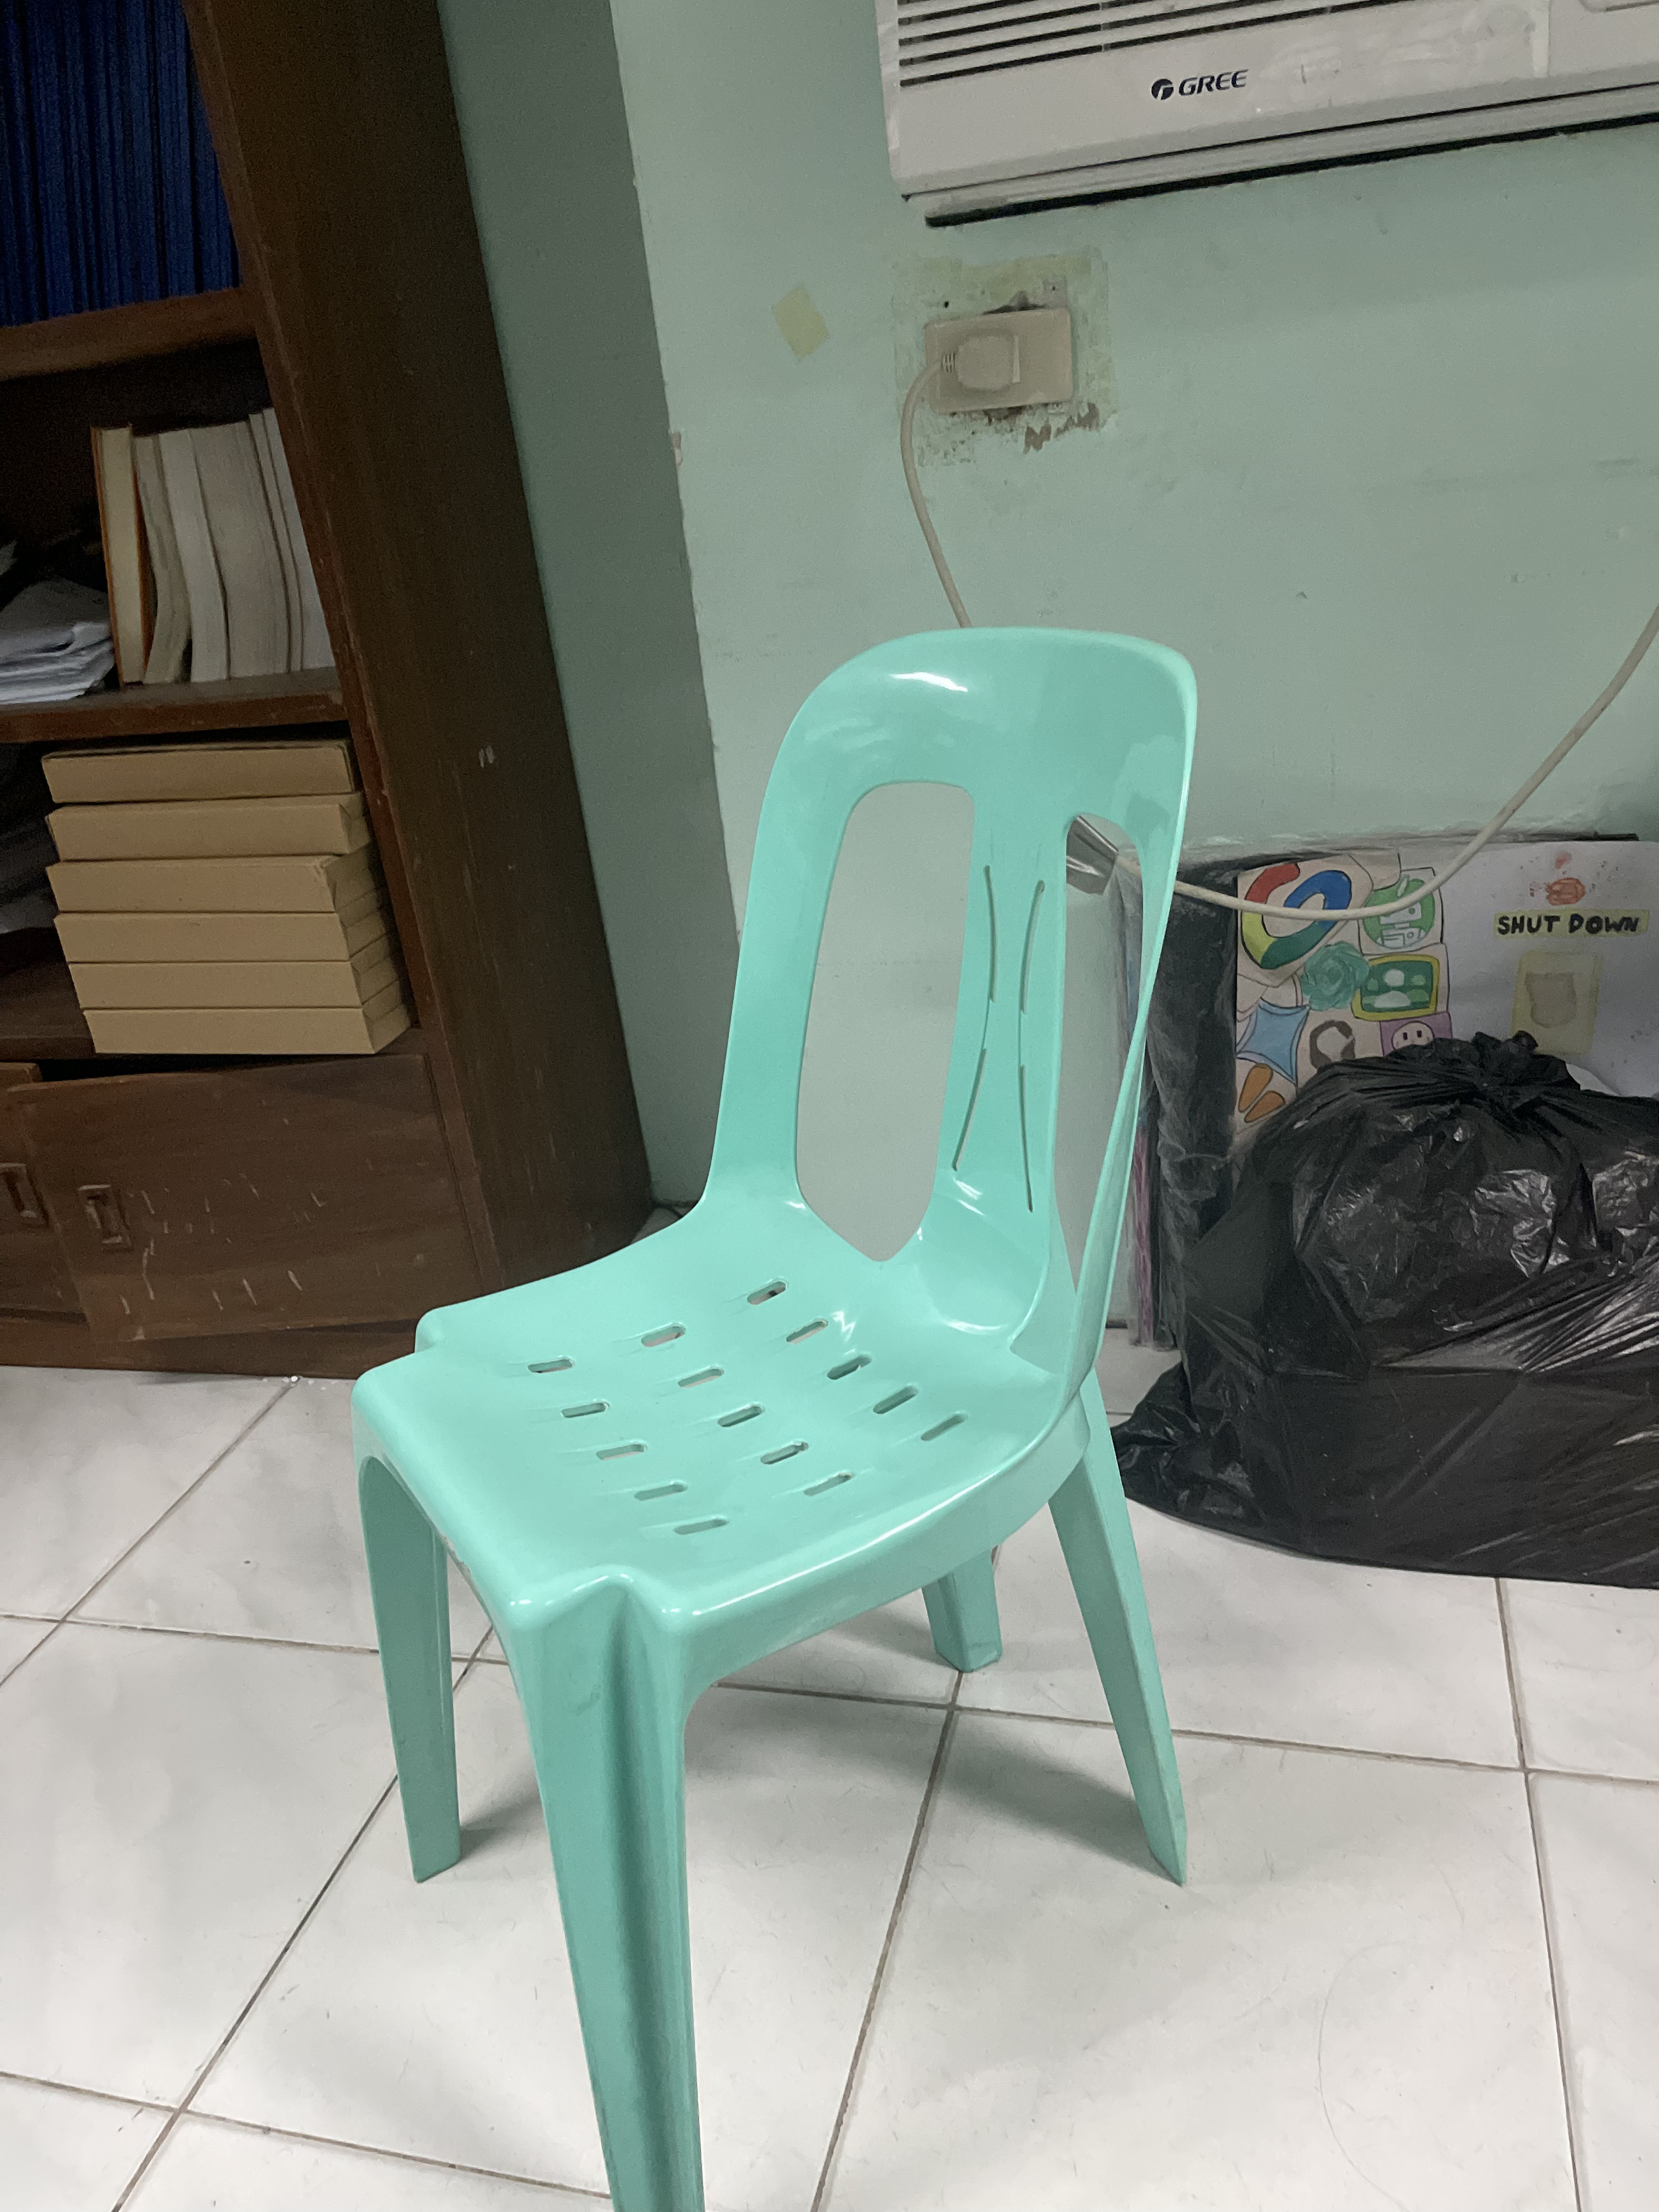chair2: (350, 620, 1227, 2212)
